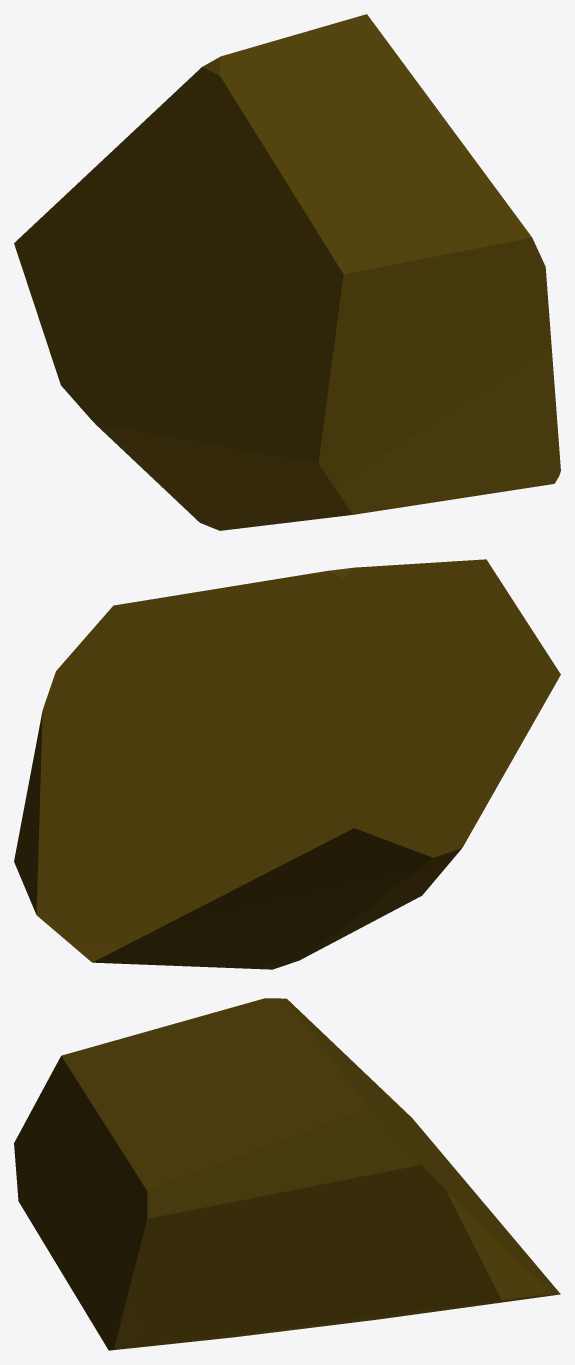
File: asteroid02.obj
The picture shows the model from 3 angles, top to bottom: view 1: azimuth 30°, elevation 25°; view 2: azimuth 150°, elevation 25°; view 3: azimuth 270°, elevation 25°; orthographic projection. The views are drawn at different scales.
Visible parts, largest first — view 1: Cube; view 2: Cube; view 3: Cube.
Boxes of the visible parts, x1,y1,x2,y2 form: Cube: (14, 14, 560, 530); Cube: (14, 559, 560, 969); Cube: (14, 998, 560, 1350).
Size of the model in its own units: 1.47 by 1.63 by 2.54.
1 material, 1 textured.
